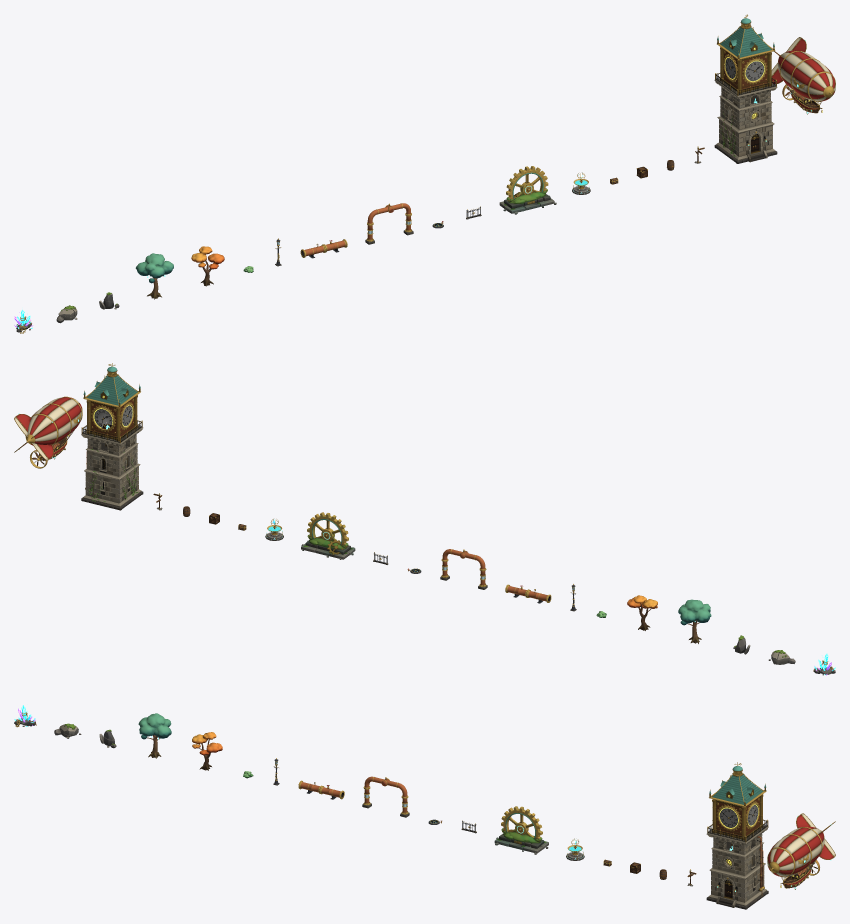
File: props.glb
The picture shows the model from 3 angles, top to bottom: view 1: azimuth 30°, elevation 25°; view 2: azimuth 150°, elevation 25°; view 3: azimuth 330°, elevation 25°; orthographic projection.
Visible parts, largest first — view 1: prop_clocktower_body, prop_airship_body, prop_gear_monument_gear, prop_tree_canopy, prop_pipe_arch_body; view 2: prop_clocktower_body, prop_airship_body, prop_gear_monument_gear, prop_tree_canopy, prop_pipe_arch_body; view 3: prop_clocktower_body, prop_airship_body, prop_gear_monument_gear, prop_tree_canopy, prop_pipe_arch_body, prop_gear_monument_base, prop_tree_b_canopy.
Part boxes in pixels (left/top/right/bottom): prop_clocktower_body: left=714, top=14, right=777, bottom=163; prop_airship_body: left=771, top=37, right=835, bottom=114; prop_gear_monument_gear: left=506, top=166, right=548, bottom=201; prop_tree_canopy: left=135, top=253, right=173, bottom=283; prop_pipe_arch_body: left=365, top=203, right=413, bottom=244; prop_clocktower_body: left=81, top=363, right=143, bottom=510; prop_airship_body: left=14, top=396, right=82, bottom=468; prop_gear_monument_gear: left=307, top=512, right=348, bottom=547; prop_tree_canopy: left=678, top=599, right=711, bottom=625; prop_pipe_arch_body: left=440, top=549, right=487, bottom=589; prop_clocktower_body: left=706, top=762, right=768, bottom=909; prop_airship_body: left=767, top=813, right=835, bottom=889; prop_gear_monument_gear: left=501, top=806, right=542, bottom=841; prop_tree_canopy: left=138, top=713, right=171, bottom=739; prop_pipe_arch_body: left=362, top=776, right=409, bottom=817; prop_gear_monument_base: left=494, top=833, right=548, bottom=854; prop_tree_b_canopy: left=192, top=732, right=222, bottom=755.
Bounding box in the file's own units: 114 × 18.79 × 12.95.
